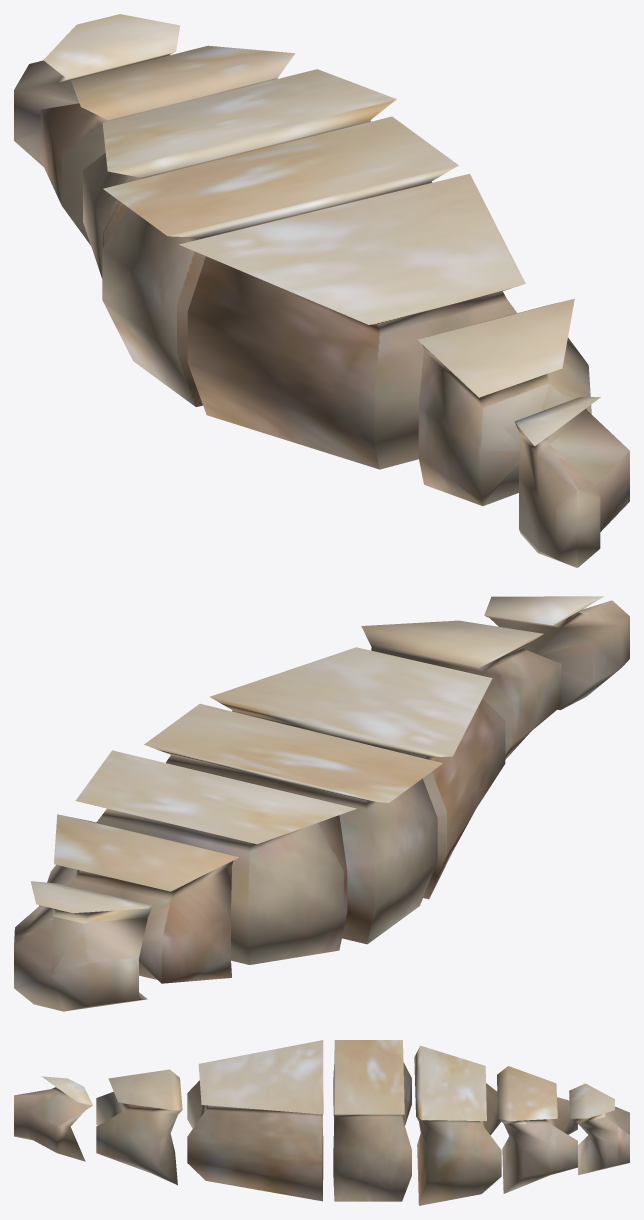
The model's file is chicken pieces 1.fbx.
3 views of the same model, one above another, from view 1: azimuth 30°, elevation 25°; view 2: azimuth 150°, elevation 25°; view 3: azimuth 270°, elevation 25° (orthographic). The views are drawn at different scales.
Parts seen in each view (by area): view 1: polySurface5, polySurface7, polySurface3, polySurface9, polySurface12, polySurface1, polySurface11; view 2: polySurface9, polySurface7, polySurface5, polySurface12, polySurface11, polySurface3, polySurface1; view 3: polySurface5, polySurface7, polySurface9, polySurface12, polySurface3, polySurface1, polySurface11.
Boxes of the visible parts, box(x1,y1,x2,y2) form: polySurface5: box(179, 173, 525, 469); polySurface7: box(102, 116, 458, 406); polySurface3: box(418, 298, 591, 505); polySurface9: box(83, 69, 396, 278); polySurface12: box(40, 45, 295, 245); polySurface1: box(514, 397, 629, 567); polySurface11: box(14, 14, 180, 166); polySurface9: box(75, 750, 356, 964); polySurface7: box(144, 703, 442, 944); polySurface5: box(209, 647, 505, 899); polySurface12: box(39, 814, 238, 983); polySurface11: box(14, 881, 153, 1011); polySurface3: box(361, 620, 561, 759); polySurface1: box(484, 596, 629, 709); polySurface5: box(187, 1040, 323, 1201); polySurface7: box(333, 1040, 411, 1201); polySurface9: box(414, 1045, 501, 1205); polySurface12: box(497, 1066, 577, 1193); polySurface3: box(96, 1069, 182, 1185); polySurface1: box(14, 1076, 92, 1161); polySurface11: box(569, 1083, 629, 1175).
Size of the model in its own units: 0.027 by 0.0146 by 0.0877.
